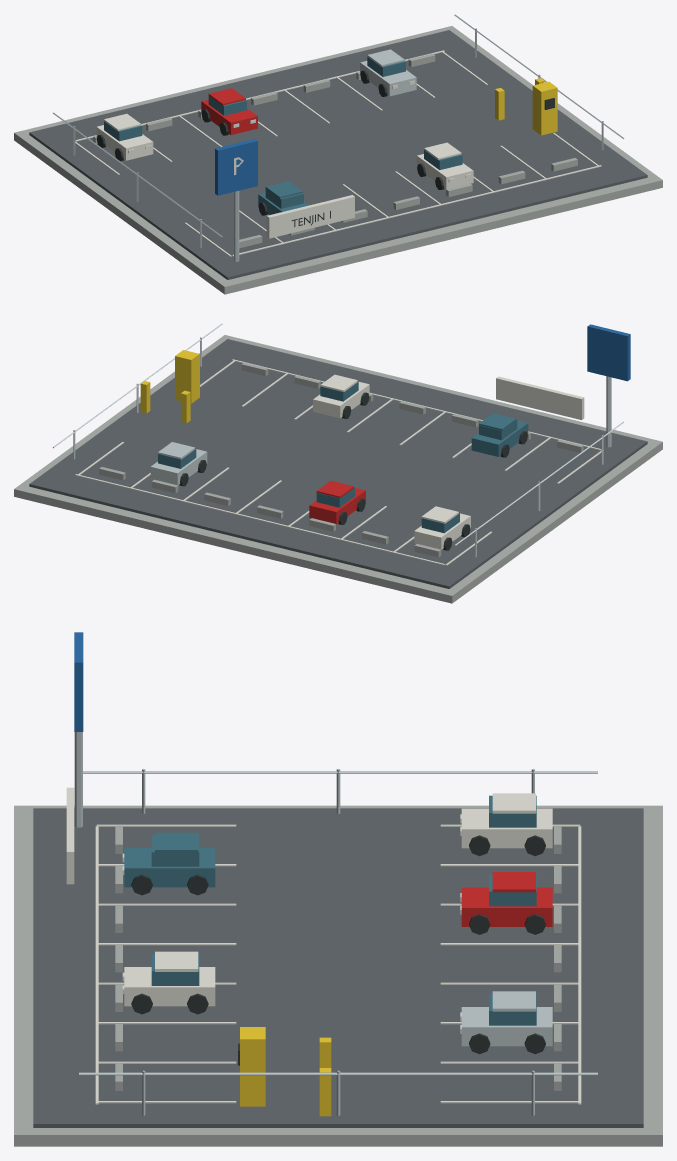
The picture shows the model from 3 angles, top to bottom: view 1: azimuth 30°, elevation 25°; view 2: azimuth 150°, elevation 25°; view 3: azimuth 270°, elevation 25°; orthographic projection. The views are drawn at different scales.
Parts seen in each view (by area): view 1: parking-tenjin-1; view 2: parking-tenjin-1; view 3: parking-tenjin-1.
Part boxes in pixels (x1,y1,x2,y2): parking-tenjin-1: (14,14,662,294); parking-tenjin-1: (14,323,662,603); parking-tenjin-1: (14,632,662,1146).
Bounding box in the file's own units: 12 × 3.31 × 10.
